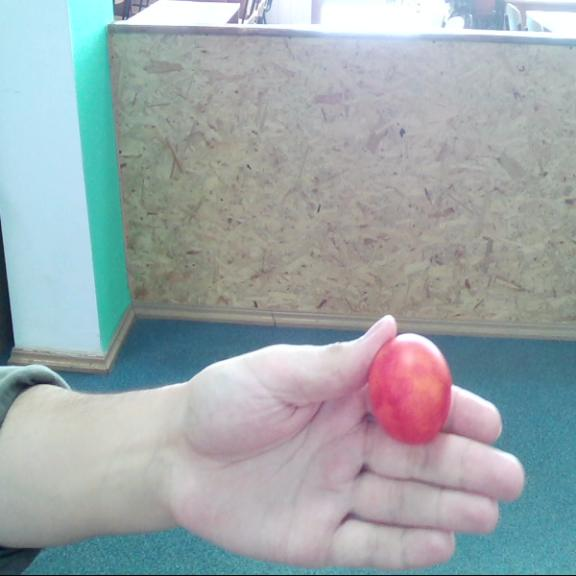ball: (373, 335, 451, 442)
